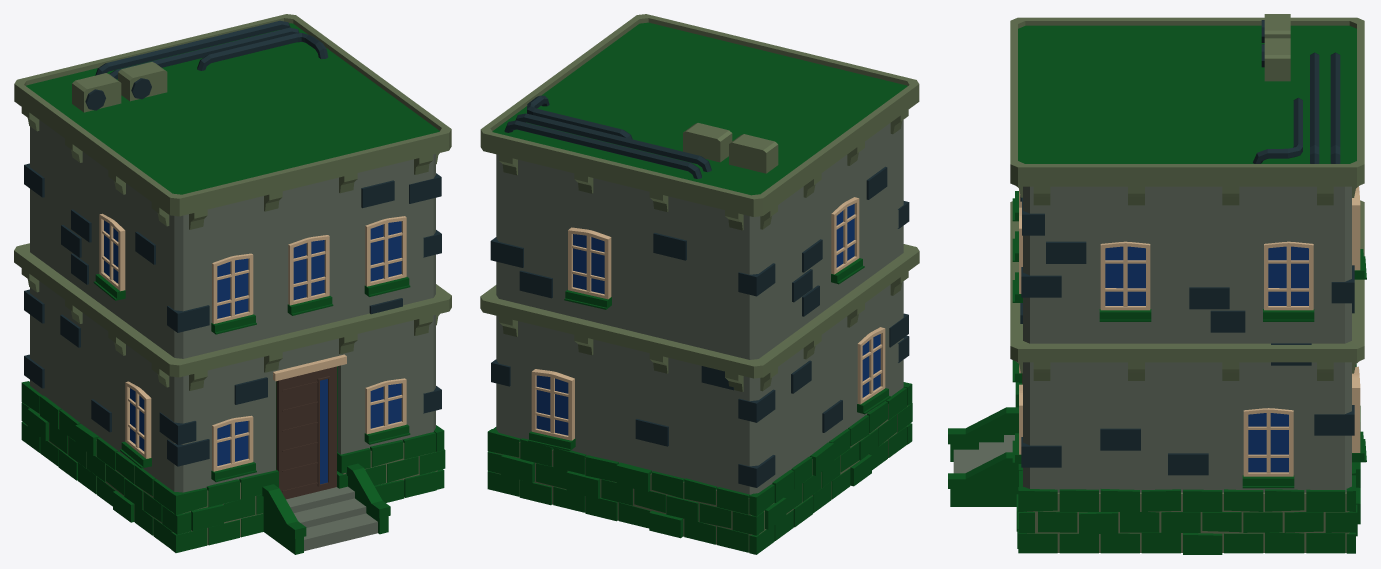
The model's file is PredioNovo2.fbx.
3 views of the same model, side by side, from view 1: azimuth 30°, elevation 25°; view 2: azimuth 150°, elevation 25°; view 3: azimuth 270°, elevation 25° (orthographic). The views are drawn at different scales.
Parts seen in each view (by area): view 1: 2Story_Mat; view 2: 2Story_Mat; view 3: 2Story_Mat.
Boxes of the visible parts, x1,y1,x2,y2 form: 2Story_Mat: [14, 14, 451, 554]; 2Story_Mat: [480, 14, 919, 554]; 2Story_Mat: [948, 14, 1366, 554].
Size of the model in its own units: 216 by 275 by 254.
